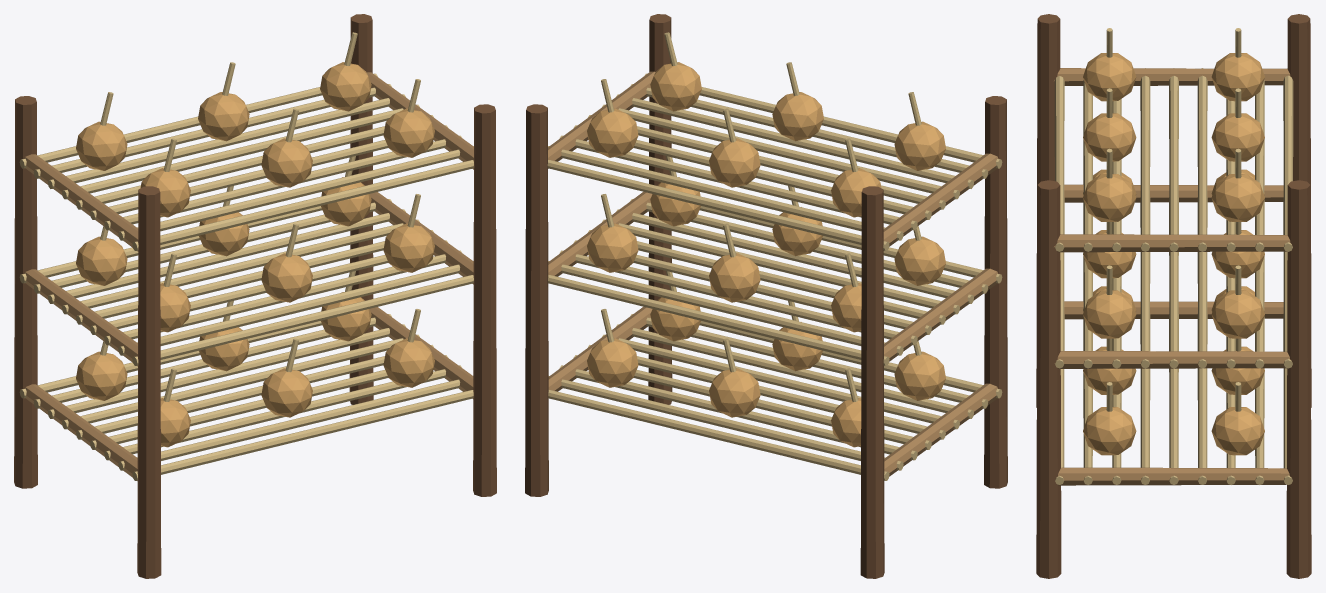
The picture shows the model from 3 angles, left to right: view 1: azimuth 30°, elevation 25°; view 2: azimuth 150°, elevation 25°; view 3: azimuth 270°, elevation 25°; orthographic projection.
Parts seen in each view (by area): view 1: GF-027 Three tier bulb curing rack batched; view 2: GF-027 Three tier bulb curing rack batched; view 3: GF-027 Three tier bulb curing rack batched.
Boxes of the visible parts, left/top/right/bottom form: GF-027 Three tier bulb curing rack batched: left=14, top=14, right=496, bottom=578; GF-027 Three tier bulb curing rack batched: left=525, top=14, right=1007, bottom=578; GF-027 Three tier bulb curing rack batched: left=1036, top=14, right=1311, bottom=578.
Bounding box in the file's own units: 1.17 × 1.25 × 0.77.
